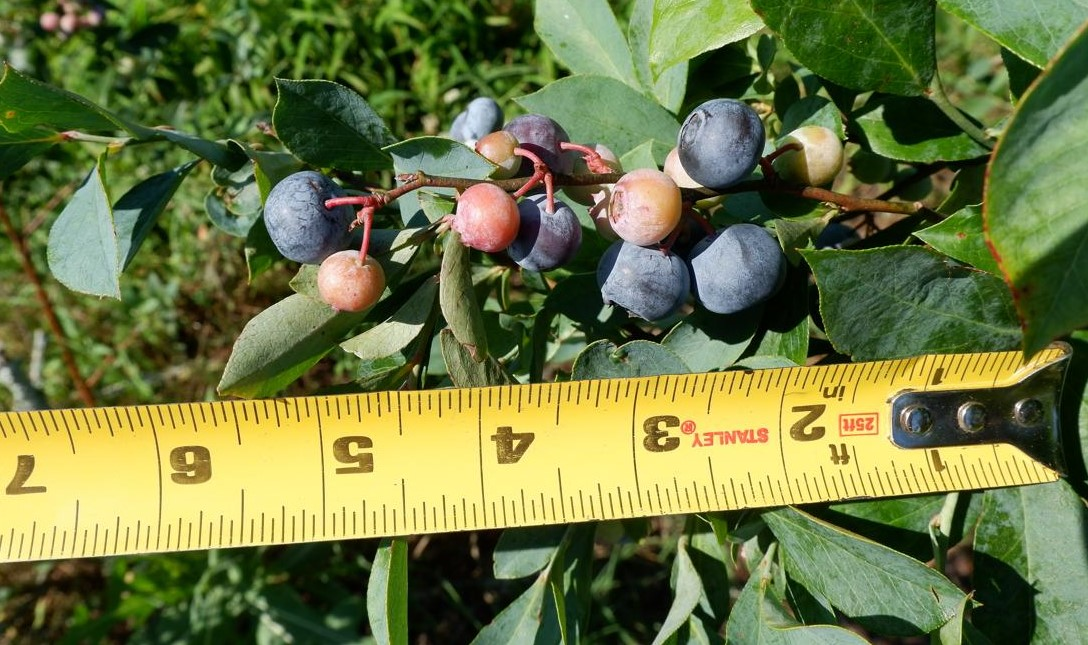Immature: (608, 167, 682, 246), (452, 183, 522, 252), (317, 250, 386, 313), (774, 125, 844, 187), (563, 143, 624, 205), (474, 130, 522, 179), (586, 184, 621, 243), (664, 148, 704, 188)
Mature: (687, 222, 788, 321), (263, 172, 357, 263), (675, 97, 765, 190), (597, 237, 690, 321), (504, 193, 583, 272), (503, 114, 576, 196), (459, 97, 505, 140), (448, 110, 477, 151)
